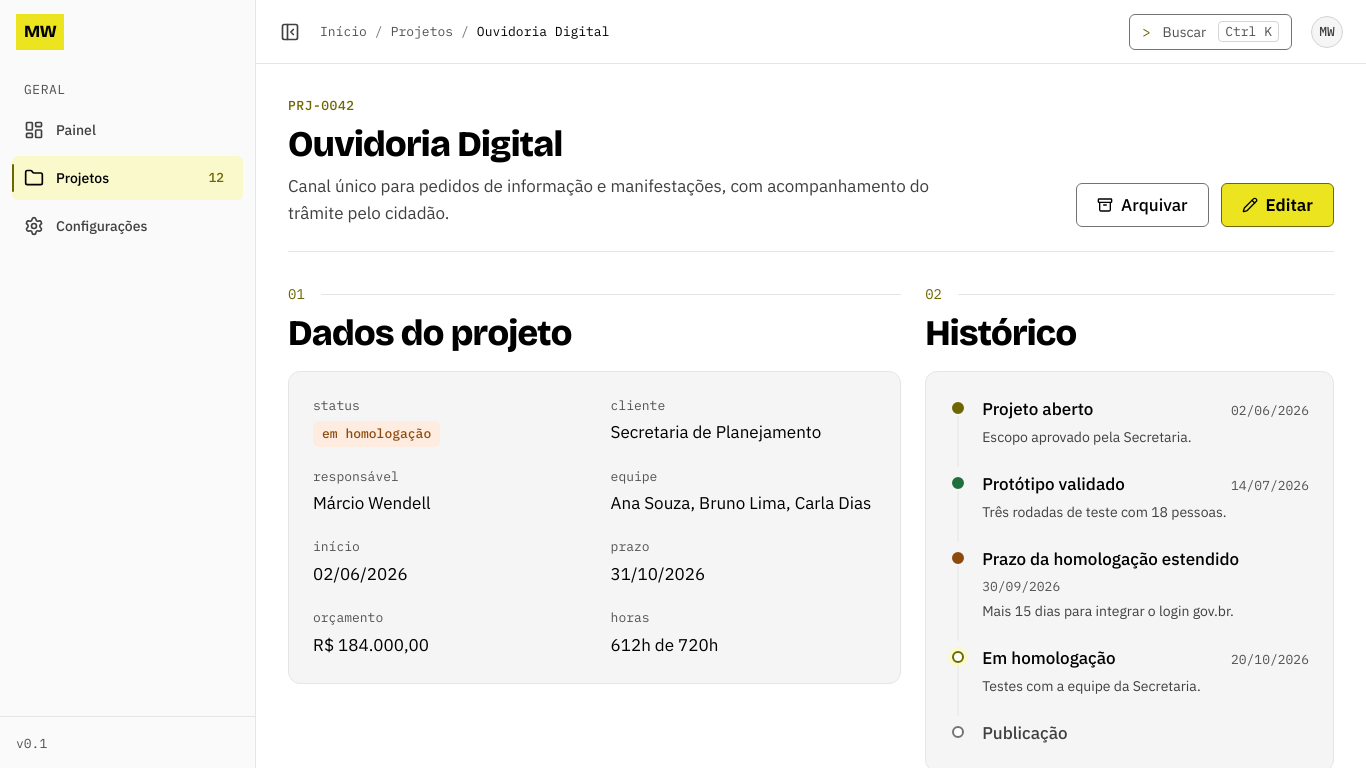
Test: record-detail block › confirms archiving in a dialog
What coordinates should you click on to do the following:
click the button "Arquivar"
I would click on:
 (1142, 205)
Its box is top-left (1076, 183), bottom-right (1209, 227).
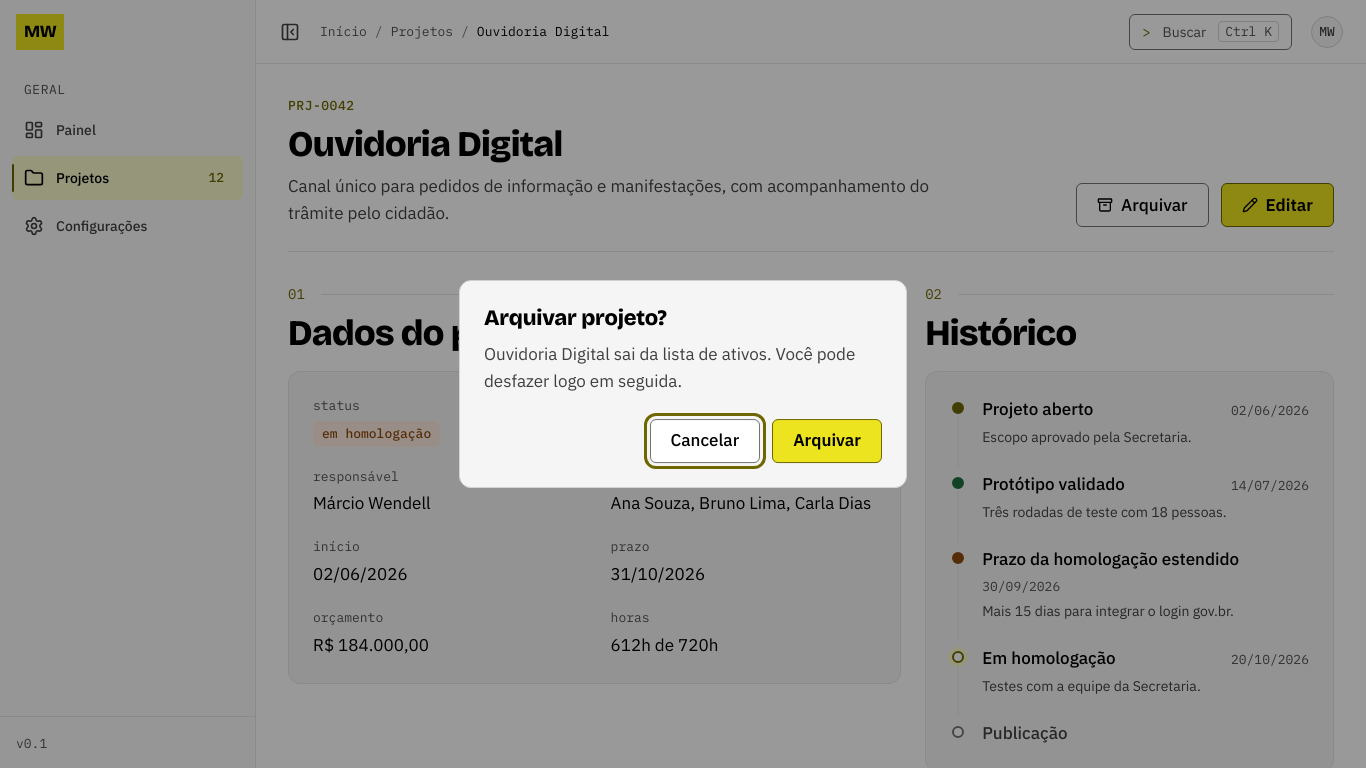
Expected: the dialog "Arquivar projeto?" shows "Ouvidoria Digital sai da lista de ativos.", top-left (484, 343), bottom-right (855, 392)
What coordinates should you click on to do the following:
click the button "Arquivar"
I would click on:
 (827, 441)
Its box is top-left (772, 419), bottom-right (882, 463).
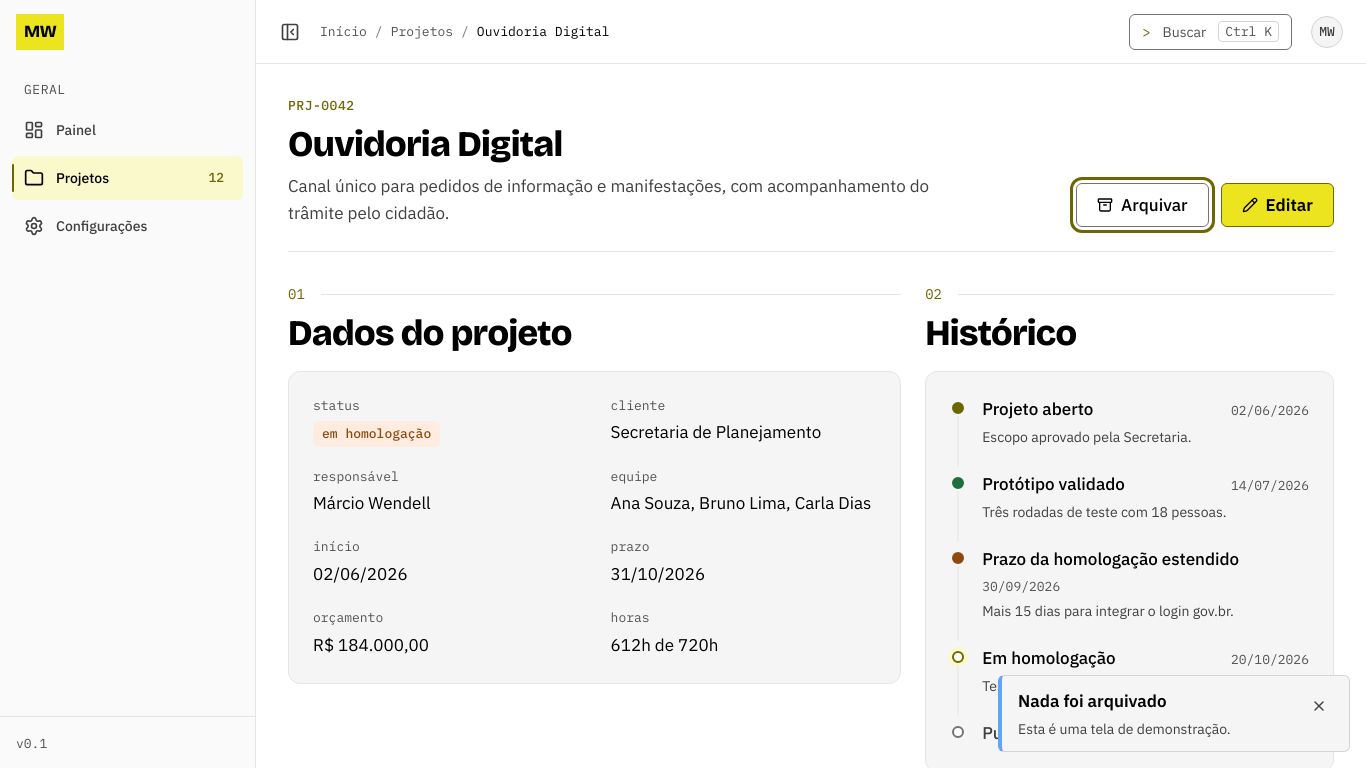
Expected: the text "Nada foi arquivado" is shown, top-left (1018, 690), bottom-right (1167, 712)
